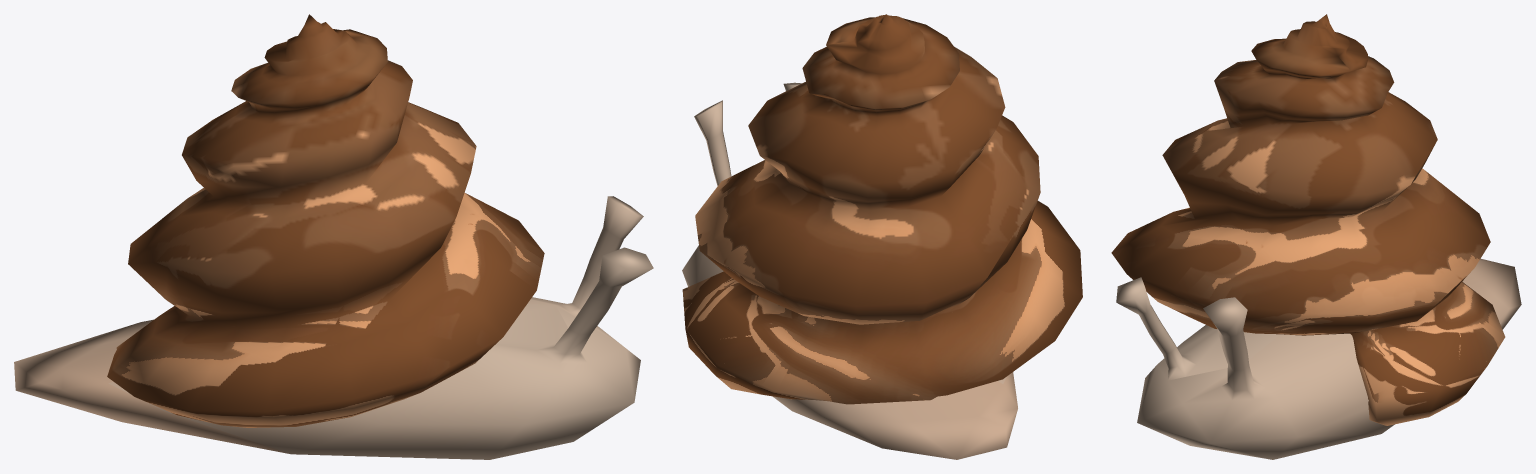
File: Snigel 2.fbx
The picture shows the model from 3 angles, left to right: view 1: azimuth 30°, elevation 25°; view 2: azimuth 150°, elevation 25°; view 3: azimuth 270°, elevation 25°; orthographic projection. The views are drawn at different scales.
Parts seen in each view (by area): view 1: Icosphere; view 2: Icosphere; view 3: Icosphere.
Boxes of the visible parts, <box> form: Icosphere: <box>14,14,653,459</box>; Icosphere: <box>682,14,1082,459</box>; Icosphere: <box>1111,14,1521,459</box>.
Size of the model in its own units: 388 by 310 by 325.
